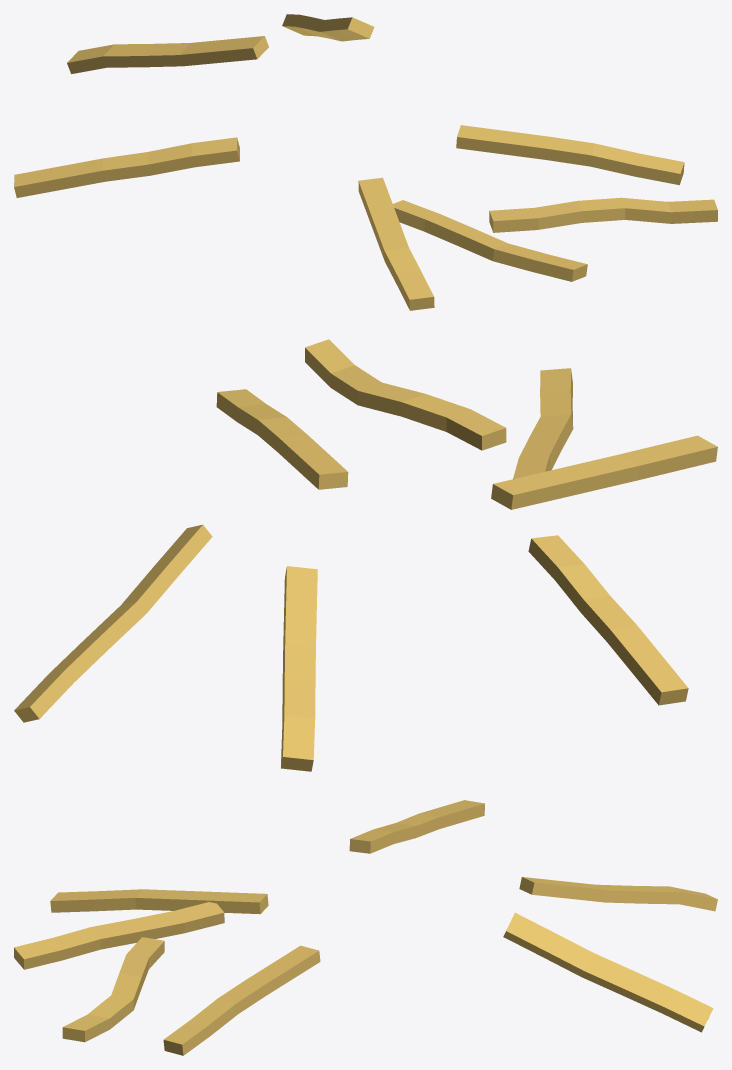
File: onion.glb
3 views of the same model, one above another, from view 1: azimuth 30°, elevation 25°; view 2: azimuth 150°, elevation 25°; view 3: azimuth 270°, elevation 25° (orthographic). The views are drawn at different scales.
Visible parts, largest first — view 1: onion; view 2: onion; view 3: onion.
Boxes of the visible parts, x1,y1,x2,y2 form: onion: [14, 14, 717, 310]; onion: [14, 339, 717, 771]; onion: [14, 800, 717, 1055].
Size of the model in its own units: 0.5379 by 0.0985 by 0.6449.
